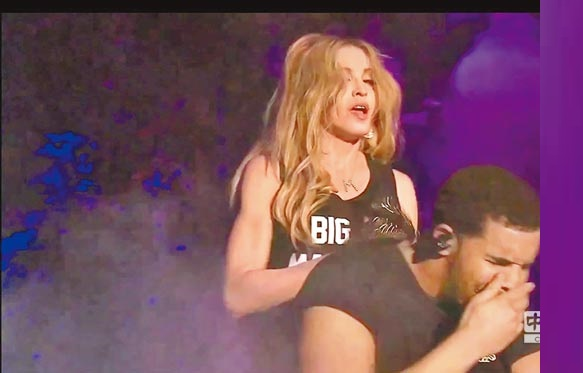face: (462, 224, 535, 312), (328, 52, 378, 133)
